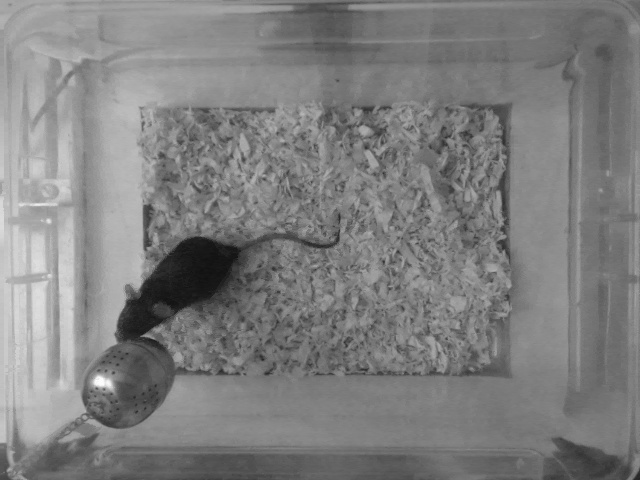mice: (112, 211, 345, 345)
